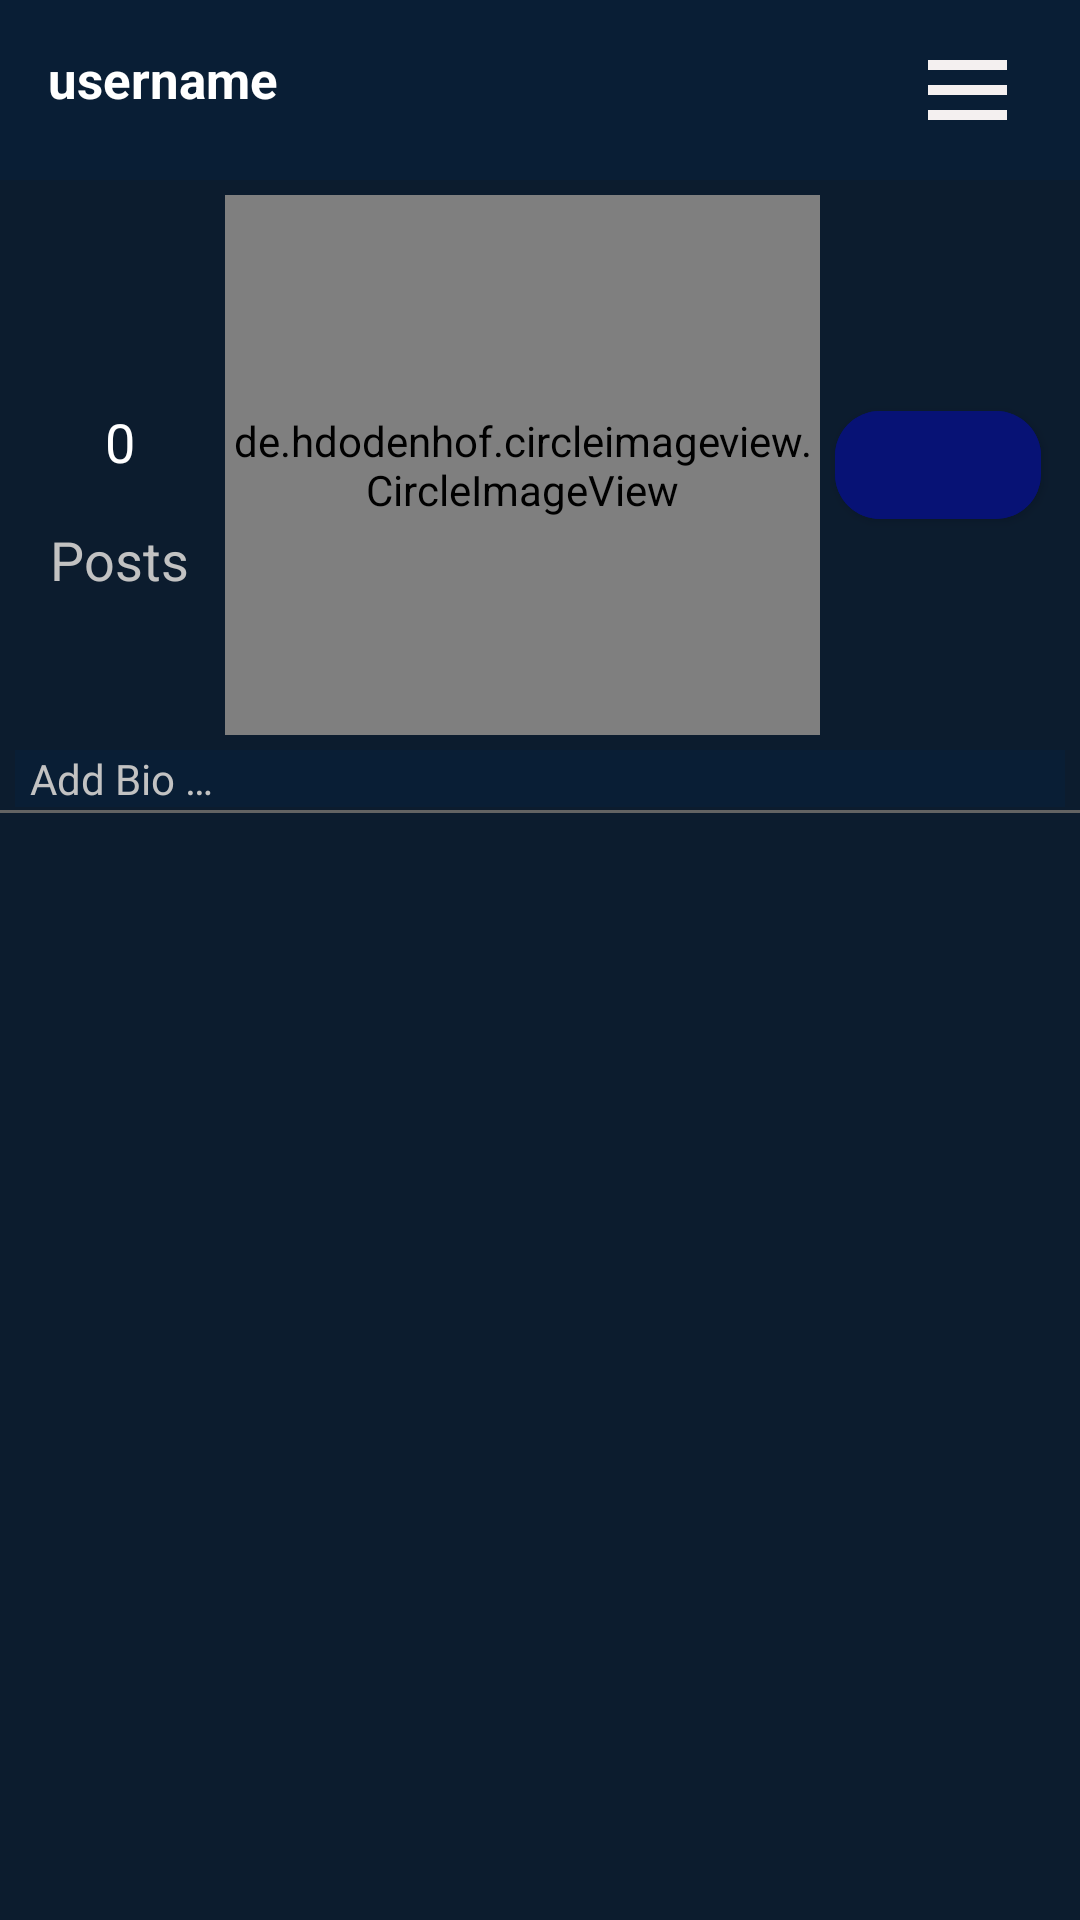

Named icons in this screenshot (1080px x 1920px) and their centers, [x,y]:
menu: [967,90]
